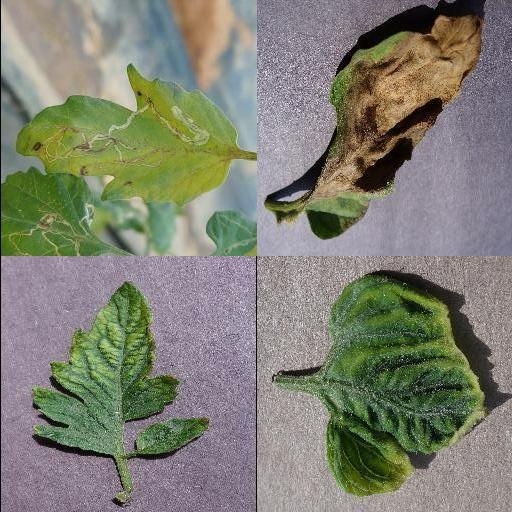Late Blight: (302, 9, 486, 243)
Leaf Miner: (15, 62, 237, 208)
Mosaic Virus: (29, 279, 181, 459)
Yellow Leaf Curl Virus: (324, 273, 486, 498)
